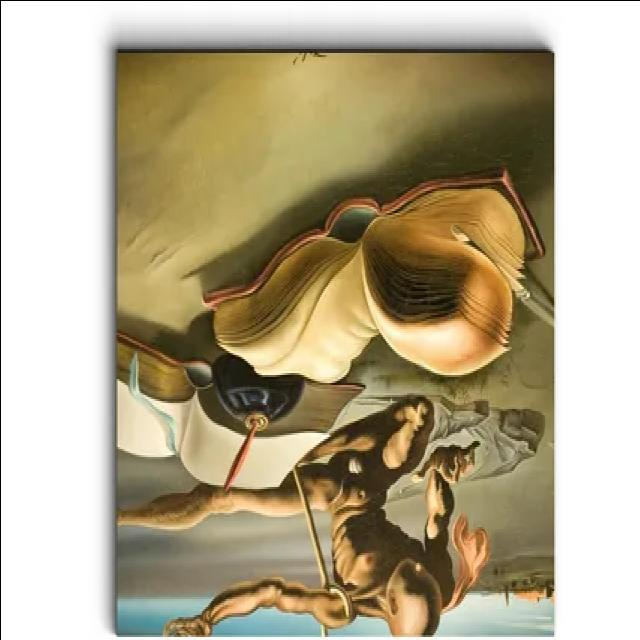book: (98, 330, 350, 498)
